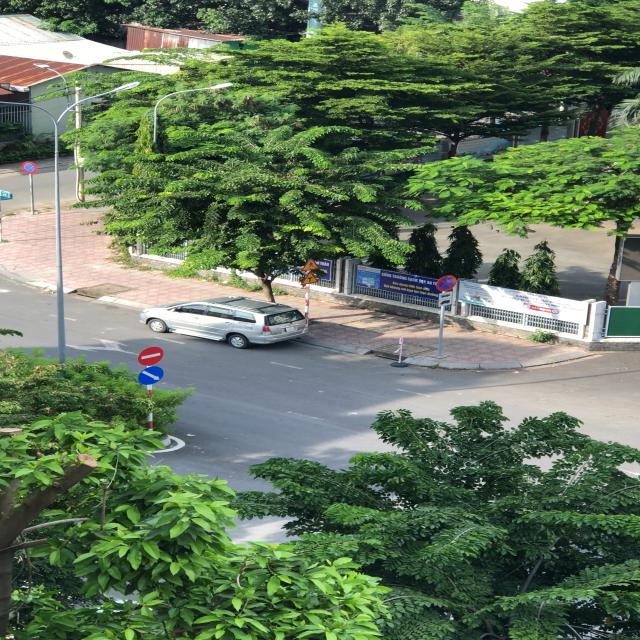Bien bao cam di nguoc chieu: (138, 345, 168, 367)
Bien bao cam dung xe va do xe: (434, 274, 459, 292)
Bien bao duong giao nhau: (298, 272, 327, 286)
Bien bao duong nguoi di bo cat ngang: (299, 257, 325, 271)
Bien bao huong phai di vong chuong ngai vat: (134, 367, 167, 385)
